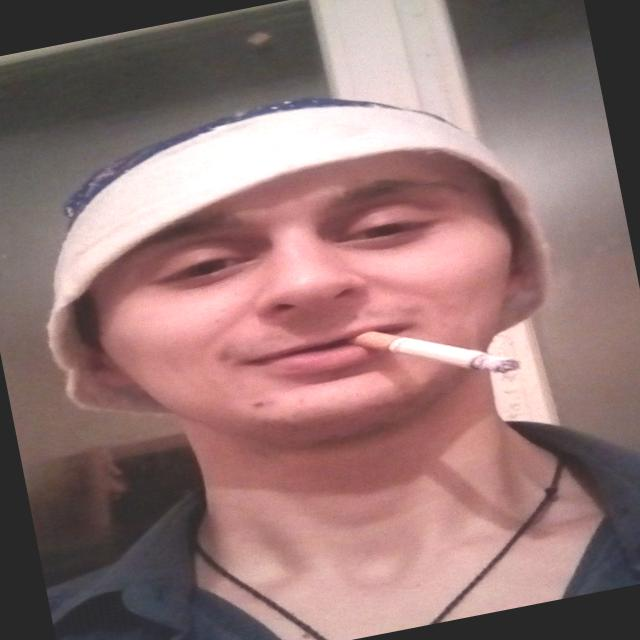smoke: (352, 298, 531, 408)
